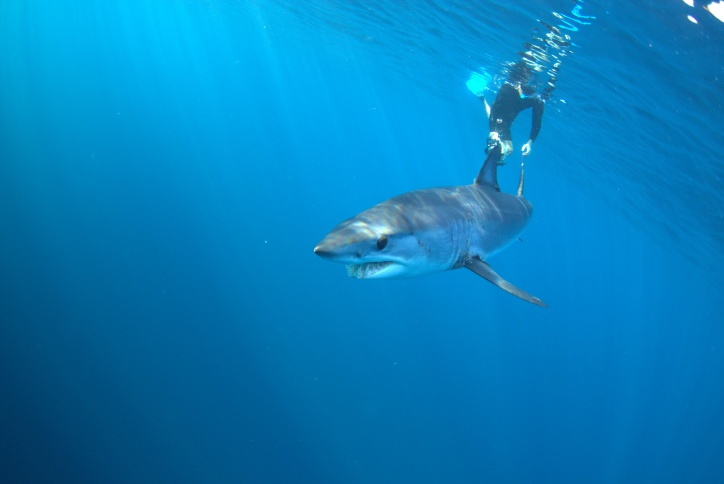Mako: (296, 144, 572, 317)
